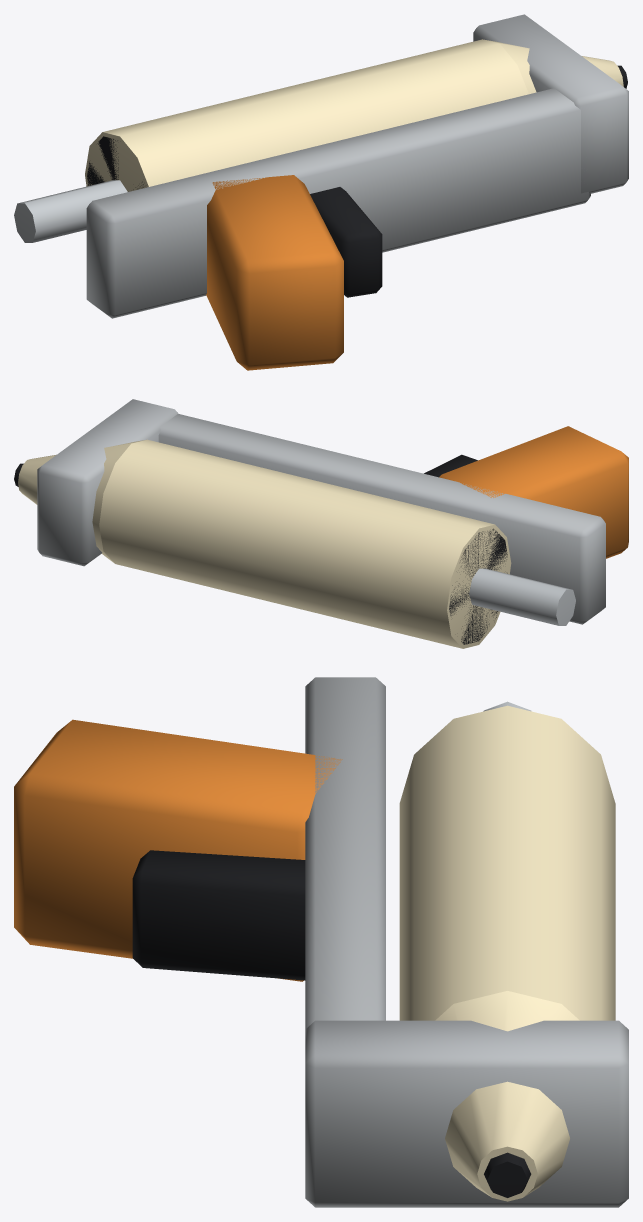
Rendered from SM_CaulkGun_01.glb.
The picture shows the model from 3 angles, top to bottom: view 1: azimuth 30°, elevation 25°; view 2: azimuth 150°, elevation 25°; view 3: azimuth 270°, elevation 25°; orthographic projection. The views are drawn at different scales.
Parts seen in each view (by area): view 1: SM_CaulkGun_01; view 2: SM_CaulkGun_01; view 3: SM_CaulkGun_01.
Part boxes in pixels (x1=…): SM_CaulkGun_01: x1=14, y1=14, x2=628, y2=370; SM_CaulkGun_01: x1=14, y1=399, x2=628, y2=648; SM_CaulkGun_01: x1=14, y1=677, x2=628, y2=1207.
Size of the model in its own units: 0.314 by 0.064 by 0.1823.
Materials: 1 (1 with a texture image).
